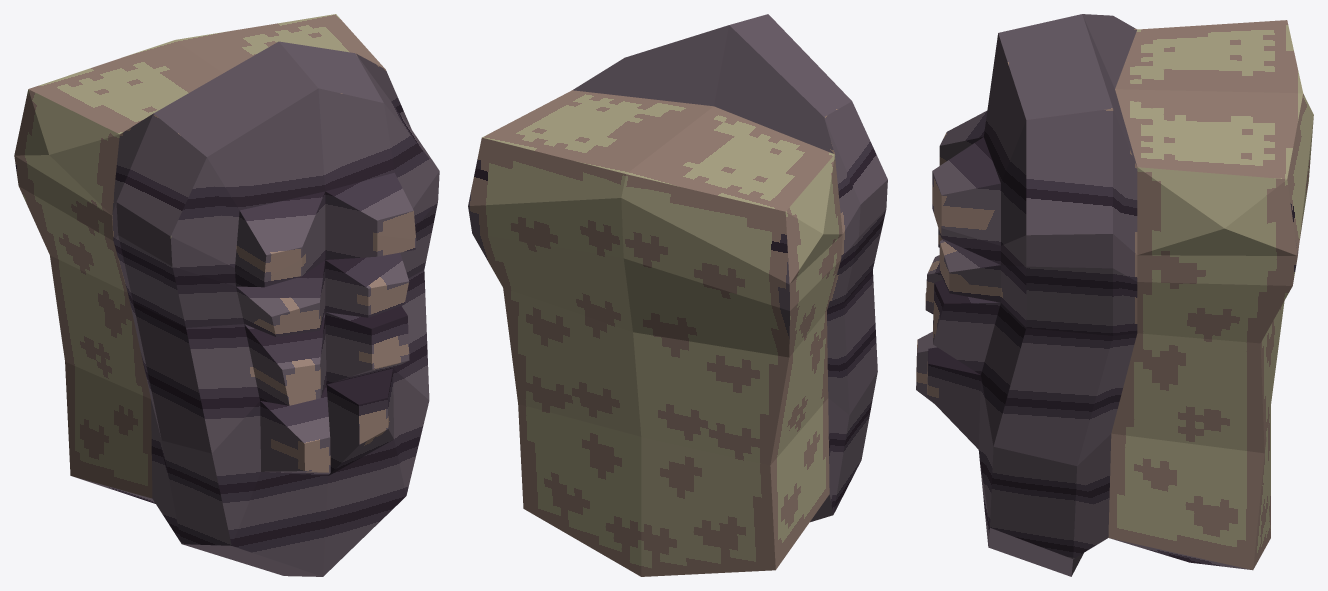
File: armadillo_body.glb
3 views of the same model, side by side, from view 1: azimuth 30°, elevation 25°; view 2: azimuth 150°, elevation 25°; view 3: azimuth 270°, elevation 25° (orthographic). The views are drawn at different scales.
Parts seen in each view (by area): view 1: Cube.125; view 2: Cube.125; view 3: Cube.125.
Boxes of the visible parts, <box> form: Cube.125: <box>14,14,439,576</box>; Cube.125: <box>468,14,887,576</box>; Cube.125: <box>916,14,1313,576</box>.
Size of the model in its own units: 3.42 by 5.32 by 3.41.
Materials: 1 (1 with a texture image).
